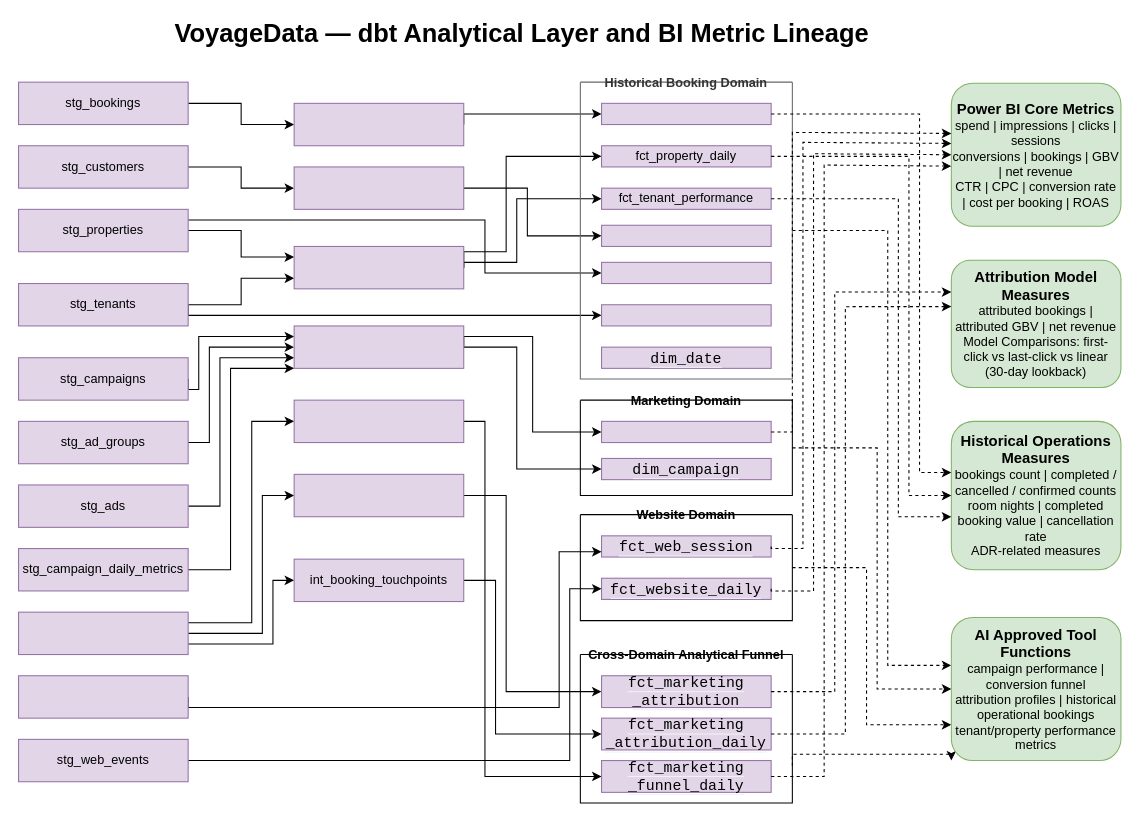
This 1139x821 diagram has some shape labels left out. Each missing label, with the centre of its shape:
"dim_customer" belongs at [685,235].
"dim_property" belongs at [685,272].
"dim_tenant" belongs at [685,315].
"fct_booking_daily" belongs at [685,113].
"fct_campaign_daily" belongs at [685,431].
"int_booking_daily" belongs at [378,124].
"int_campaign_daily _performance" belongs at [378,346].
"int_conversion_booking" belongs at [378,421].
"int_customer_booking _summary" belongs at [378,187].
"int_marketing_touchpoints" belongs at [378,495].
"int_property_booking _performance" belongs at [378,267].
"stg_marketing_bookings" belongs at [102,633].
"stg_web_sessions" belongs at [102,696].
